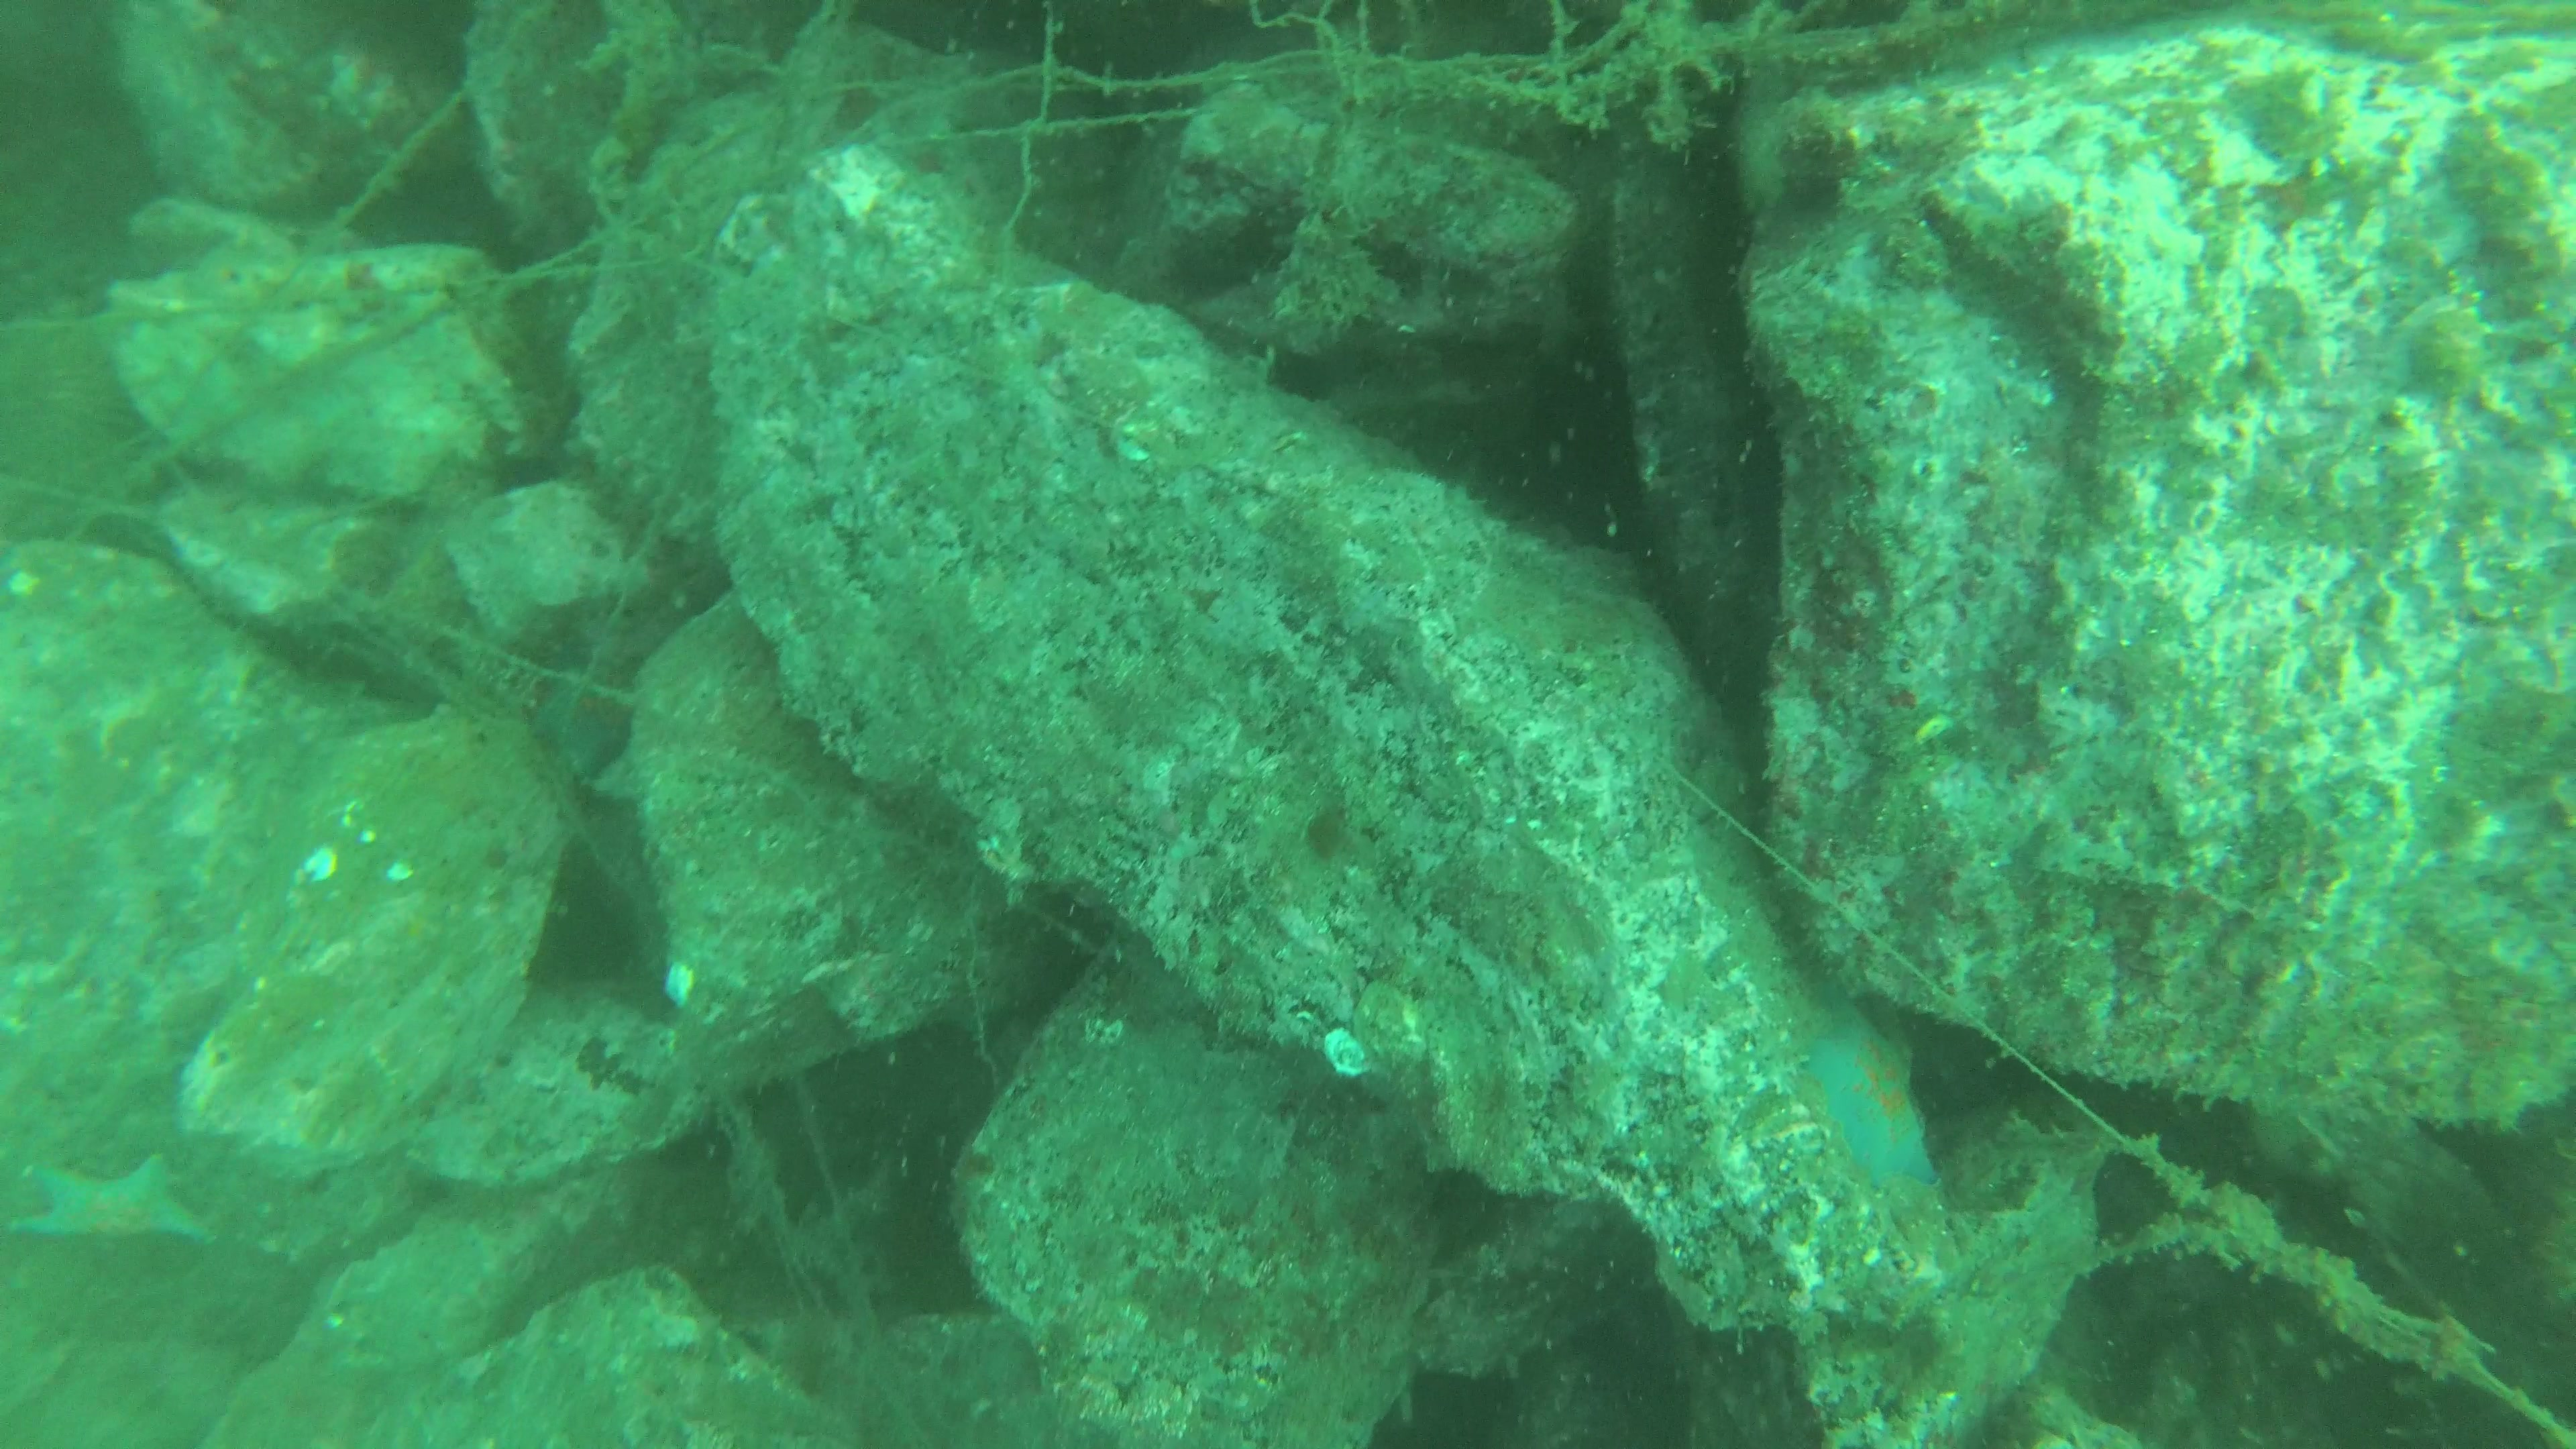starfish: (1785, 994, 1951, 1201), (522, 648, 639, 775)
